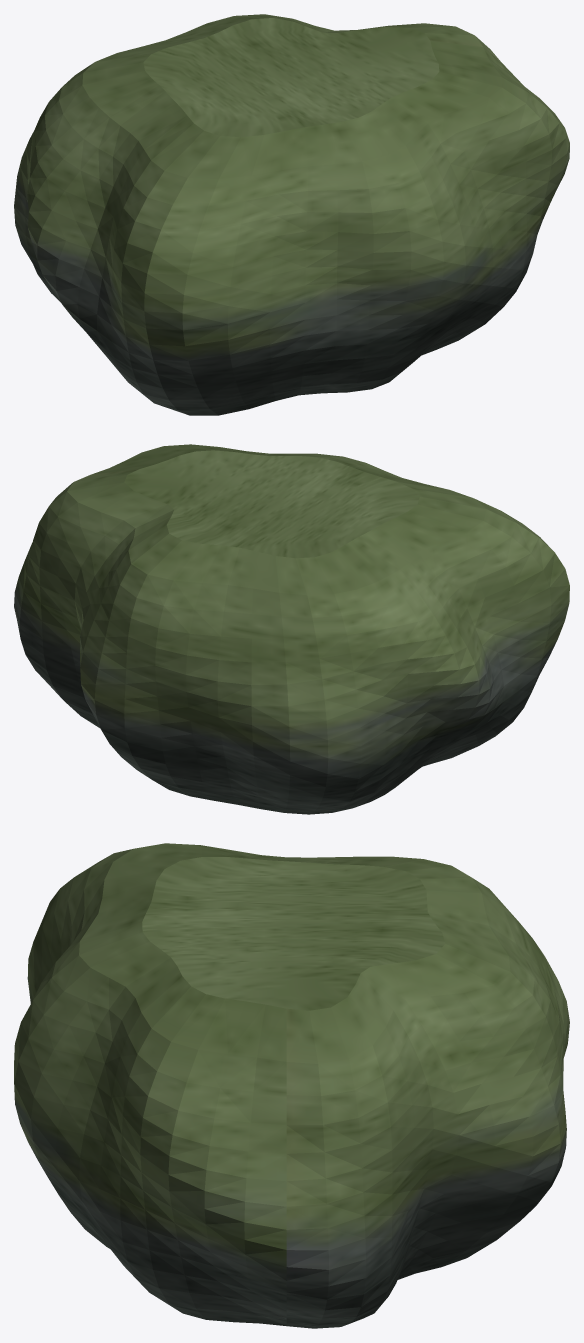
File: mossy_river_rock.glb
3 views of the same model, one above another, from view 1: azimuth 30°, elevation 25°; view 2: azimuth 150°, elevation 25°; view 3: azimuth 270°, elevation 25° (orthographic). The views are drawn at different scales.
Parts seen in each view (by area): view 1: mossy_river_rock; view 2: mossy_river_rock; view 3: mossy_river_rock.
Boxes of the visible parts, <box> form: mossy_river_rock: <box>14,14,569,415</box>; mossy_river_rock: <box>14,444,569,814</box>; mossy_river_rock: <box>14,843,569,1328</box>.
Bounding box in the file's own units: 2.1 × 1.1 × 1.7.
Materials: 1 (1 with a texture image).
